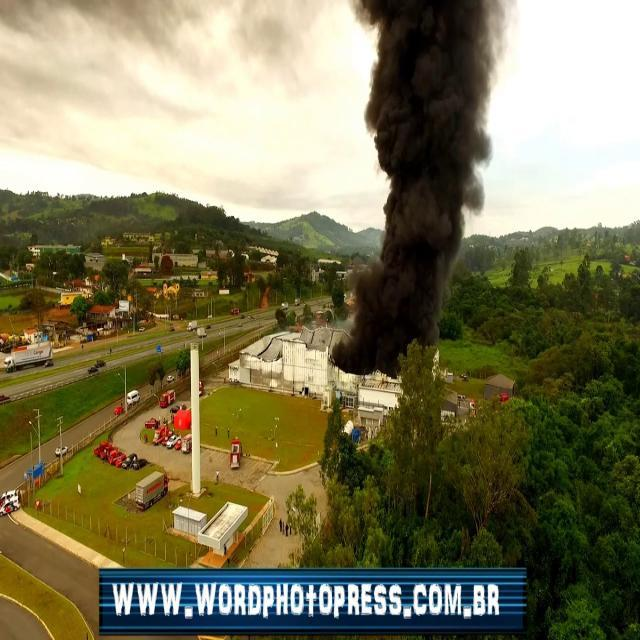Smoke: (330, 4, 492, 391)
